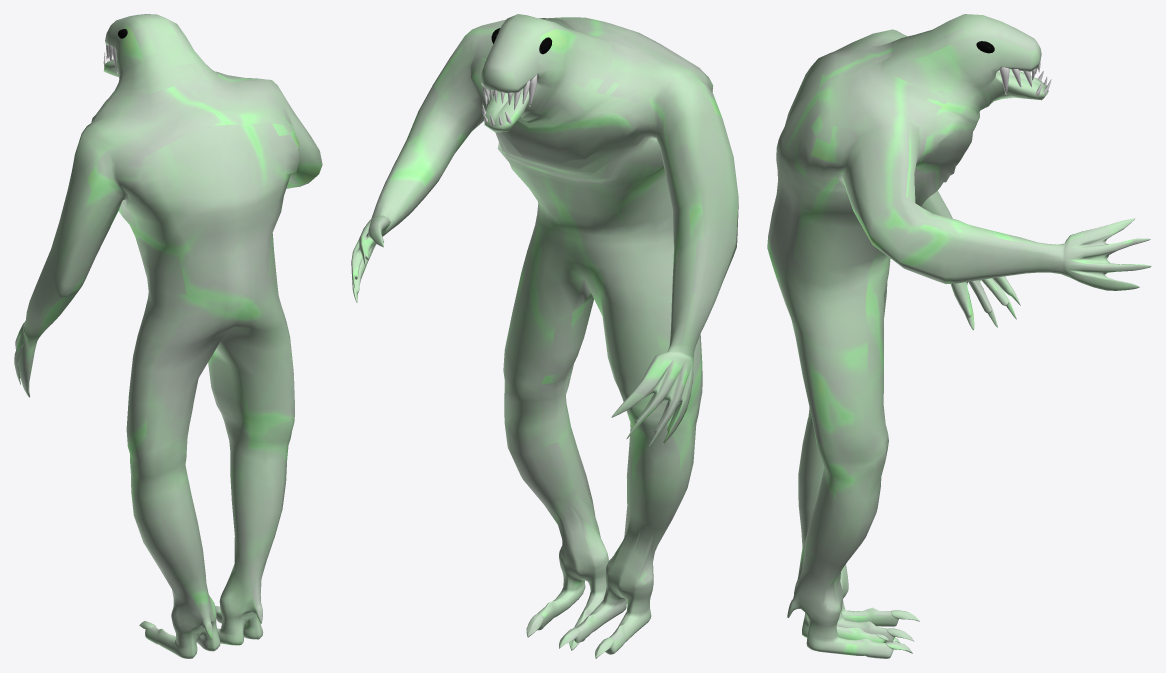
Rendered from Berserkercorrer.0019.obj.
The picture shows the model from 3 angles, left to right: view 1: azimuth 30°, elevation 25°; view 2: azimuth 150°, elevation 25°; view 3: azimuth 270°, elevation 25°; orthographic projection. The views are drawn at different scales.
Parts seen in each view (by area): view 1: polySurface27; view 2: polySurface27; view 3: polySurface27.
Boxes of the visible parts, x1=… form: polySurface27: x1=14, y1=14, x2=322, y2=658; polySurface27: x1=351, y1=14, x2=738, y2=658; polySurface27: x1=767, y1=14, x2=1151, y2=658.
Size of the model in its own units: 11.46 by 23.87 by 13.23.
Materials: 1 (1 with a texture image).
